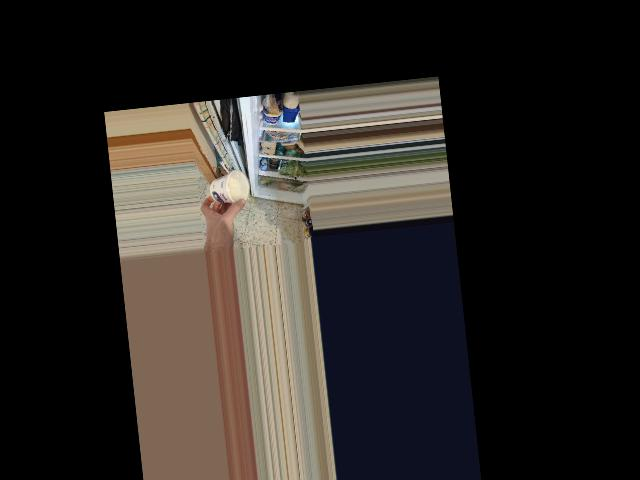cotage: (206, 170, 250, 210)
